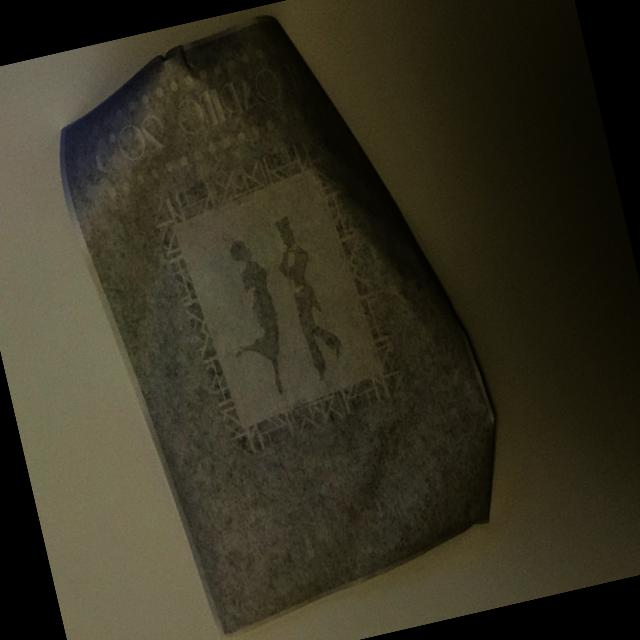Paper: (17, 0, 559, 640)
